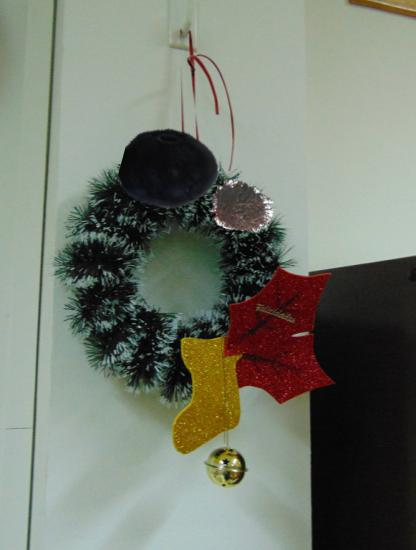Blueberry: (121, 121, 219, 219)
Rambutan: (210, 176, 274, 240)
